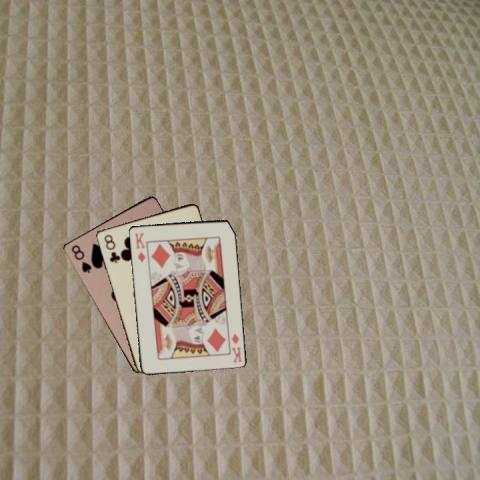8c: (101, 231, 120, 264)
8s: (68, 242, 93, 275)
Kd: (131, 230, 147, 263), (228, 331, 243, 364)
